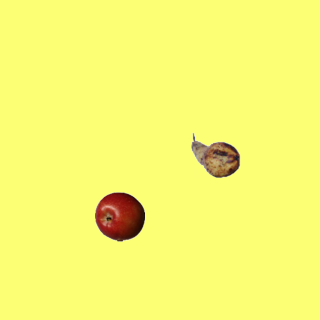Apple Braeburn: (94, 191, 144, 241)
Pear Abate: (190, 130, 240, 180)
